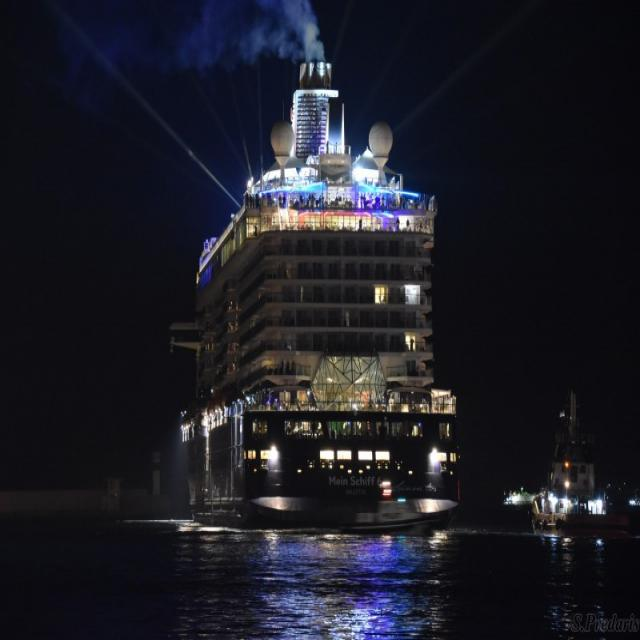cruises: (171, 47, 479, 543)
